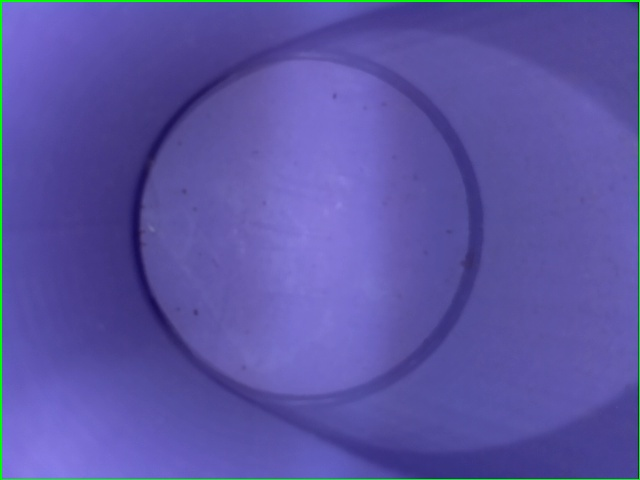vide: (0, 0, 640, 480)
